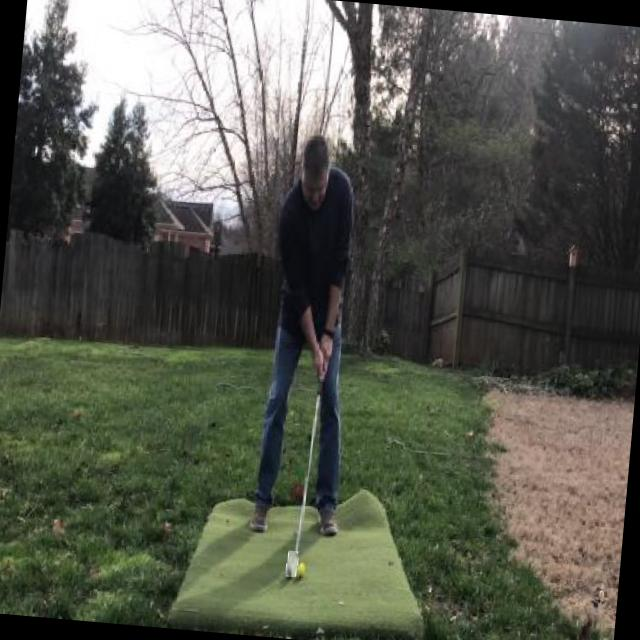club head: (286, 550, 298, 578)
